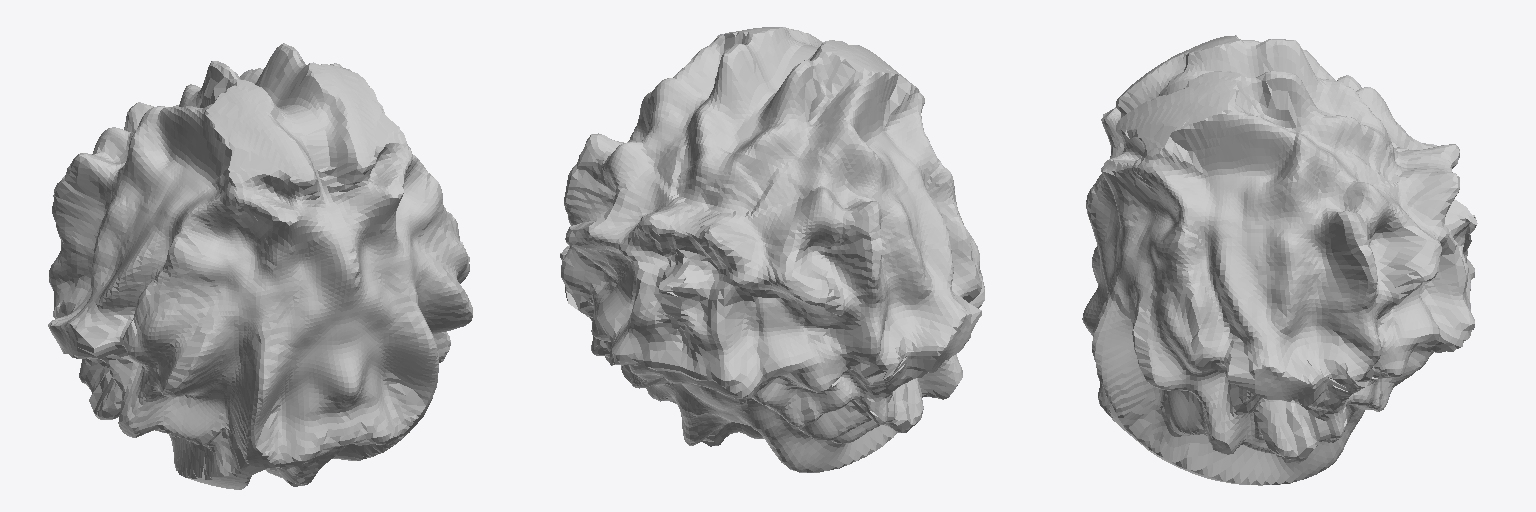
The model's file is meteoro.obj.
3 renders of one model, left to right at view 1: azimuth 30°, elevation 25°; view 2: azimuth 150°, elevation 25°; view 3: azimuth 270°, elevation 25°, orthographic.
Parts seen in each view (by area): view 1: Quad_Sphere; view 2: Quad_Sphere; view 3: Quad_Sphere.
Boxes of the visible parts, x1,y1,x2,y2 form: Quad_Sphere: [48, 43, 472, 489]; Quad_Sphere: [560, 27, 984, 472]; Quad_Sphere: [1082, 35, 1477, 485].
Size of the model in its own units: 0.1936 by 0.1929 by 0.1722.